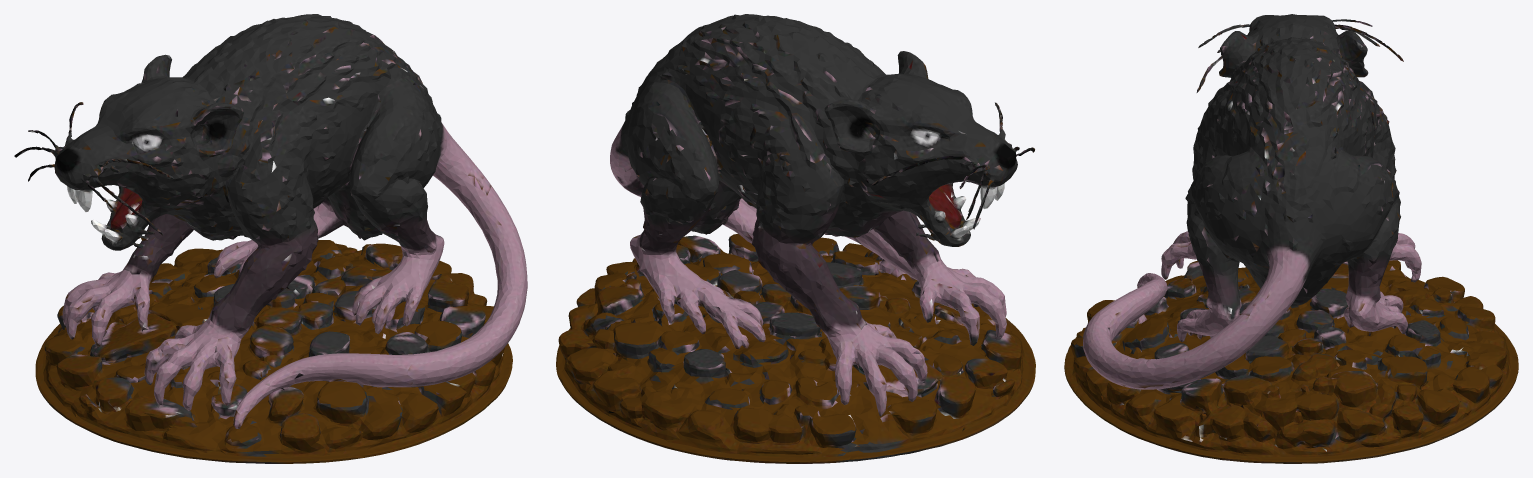
File: rato_gicante.glb
The picture shows the model from 3 angles, left to right: view 1: azimuth 30°, elevation 25°; view 2: azimuth 150°, elevation 25°; view 3: azimuth 270°, elevation 25°; orthographic projection. The views are drawn at different scales.
Visible parts, largest first — view 1: tmphn2a66tr.ply; view 2: tmphn2a66tr.ply; view 3: tmphn2a66tr.ply.
Boxes of the visible parts, box(x1,y1,x2,y2) form: tmphn2a66tr.ply: box(14, 14, 527, 463); tmphn2a66tr.ply: box(556, 14, 1035, 463); tmphn2a66tr.ply: box(1064, 14, 1518, 463).
Size of the model in its own units: 1.96 by 1.5 by 1.9.
Materials: 1 (1 with a texture image).
